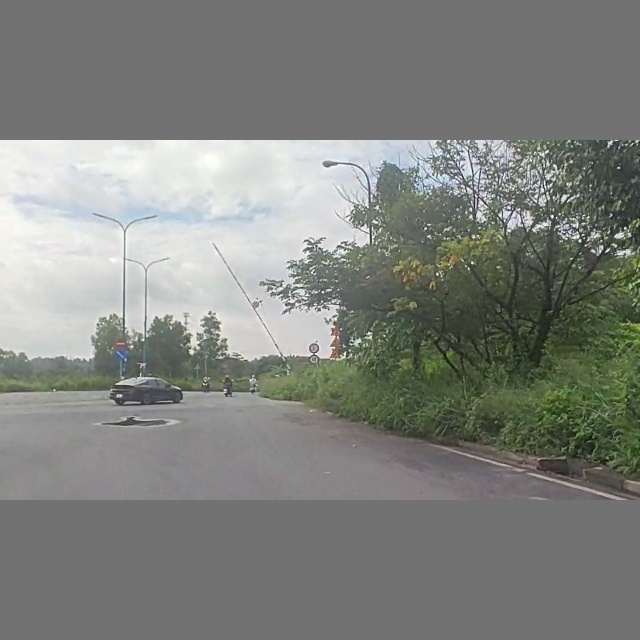P.102: (116, 339, 129, 349)
P.127*40: (309, 354, 320, 364)
R.302a: (115, 347, 131, 361)
W.201b: (331, 348, 342, 359)
